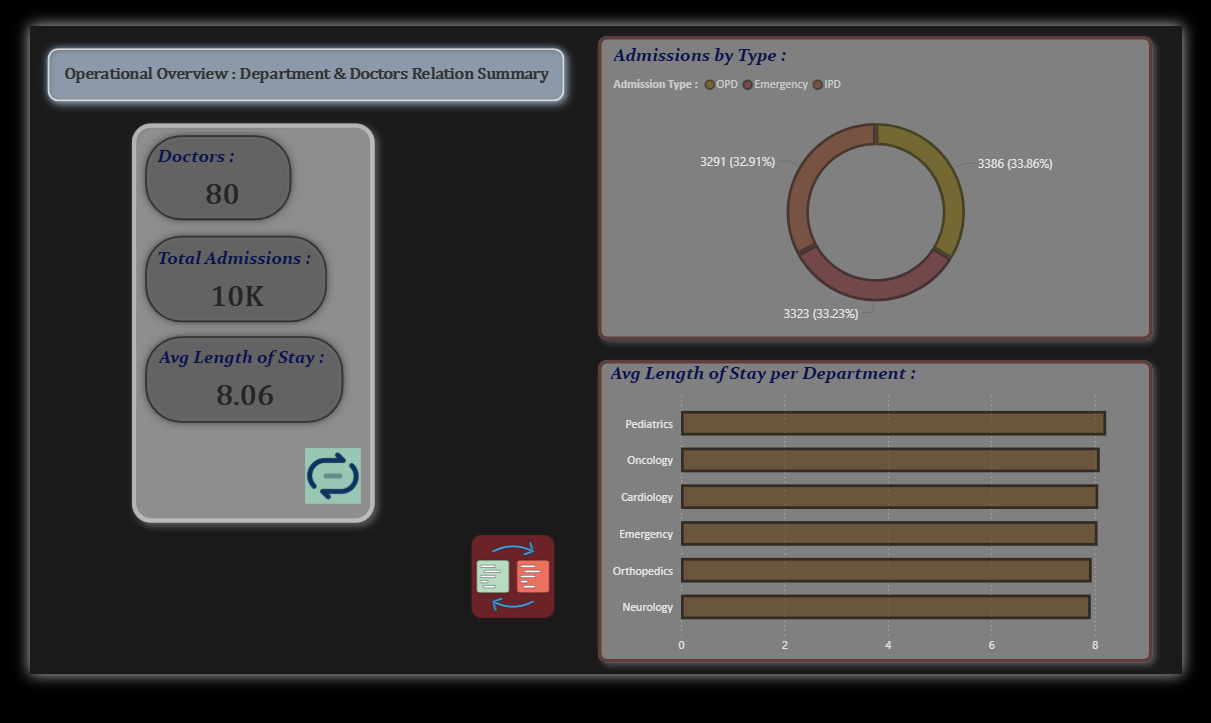

The page's visual inventory and layout, read from the dashboard file:
{"tool":"powerbi","page":{"name":"Operational Efficiency Analysis :- ","canvas":[1280,720],"ordinal":2},"visuals":[{"type":"shape","box":[620,10,638.3,408],"z":0,"group":"g1"},{"type":"group","id":"g1","title":"Visual - Adm by Doc","box":[620,10,638.3,408],"z":0,"group":"g3"},{"type":"shape","box":[99.6,95.2,296,470.1],"z":0,"group":"g8"},{"type":"shape","box":[119.9,113.2,178.4,110.4],"z":0,"group":"g7"},{"type":"actionButton","title":"Home Button ","box":[25,142.5,95,100],"z":0,"group":"g10"},{"type":"shape","box":[119.9,225.1,217.9,112.1],"z":0,"group":"g4"},{"type":"group","id":"g2","title":"KIP - Avg Stay Time ","box":[119.9,337.1,236.8,112.1],"z":0,"group":"g6"},{"type":"shape","box":[119.9,337.1,236.2,112.1],"z":0,"group":"g2"},{"type":"shape","box":[621.7,411.7,636.6,308.3],"z":0,"group":"g5"},{"type":"actionButton","title":"Next Button ","box":[170,600,95,100],"z":0,"group":"g9"},{"type":"group","id":"g3","title":"Visual 2 - Admission","box":[620,10,638.3,710],"z":1000},{"type":"actionButton","title":"Filter Button ","box":[25,20,95,100],"z":1000,"group":"g10"},{"type":"clusteredBarChart","title":"Admissions by Doctor :","fields":{"Category":["Doctors.Doctor_Name"],"Y":["MyMeasures.Admissions Count"]},"box":[638.6,26.7,597.8,380],"z":1000,"group":"g1"},{"type":"card","title":"Doctors :","fields":{"Values":["MyMeasures.Total Doctor"]},"box":[136.6,131.9,153.4,81.5],"z":1000,"group":"g7"},{"type":"group","id":"g4","title":"KIP - Total Admissions","box":[119.9,225.1,218.4,112.1],"z":1000,"group":"g6"},{"type":"card","title":"Total Admissions :","fields":{"Values":["MyMeasures.Total Admissions"]},"box":[136.6,245.5,185.1,81.5],"z":1000,"group":"g4"},{"type":"card","title":"Avg Length of Stay :","fields":{"Values":["MyMeasures.Avg Length of Stay"]},"box":[138.2,355.8,200.1,81.5],"z":1000,"group":"g2"},{"type":"group","id":"g5","title":"Visual - Adm by Dept","box":[621.7,411.7,636.6,308.3],"z":1000,"group":"g3"},{"type":"clusteredColumnChart","title":"Admissions by Department : ","fields":{"Category":["Departments.Department_Name"],"Y":["MyMeasures.Admissions Count"]},"box":[638.6,430,597.8,278.3],"z":1000,"group":"g5"},{"type":"actionButton","title":"Table View Button ","box":[301.4,464.7,70.1,69.9],"z":1000,"group":"g8"},{"type":"actionButton","title":"Previous Button ","box":[25,600,95,100],"z":1000,"group":"g9"},{"type":"group","id":"g6","title":"All KPIs ","box":[119.9,113.2,236.8,335.9],"z":2000,"group":"g8"},{"type":"group","id":"g7","title":"KPI - Total Doctors ","box":[119.9,113.2,178.4,112.1],"z":2000,"group":"g6"},{"type":"actionButton","title":"Change View Button 1","box":[486,562,100,100],"z":2000},{"type":"group","id":"g8","title":"KPIs with BG","box":[99.6,95.2,296,470.1],"z":4000},{"type":"group","id":"g9","title":"Navigation ","box":[25,600,240,100],"z":5000},{"type":"shape","title":"Title","box":[7.3,11,600,85],"z":5500},{"type":"group","id":"g10","title":"Home + Filter ","box":[25,20,95,222.5],"z":6000}]}

Visuals, with their boxes on the page's 1280x720 design canvas (x1, y1, x2, y2). These are canvas units, not pixel positions in the 1211x723 screenshot, which may show the page scaled, cropped or inside an application window:
shape: BBox(620, 10, 1258, 418)
"Visual - Adm by Doc" group: BBox(620, 10, 1258, 418)
shape: BBox(100, 95, 396, 565)
shape: BBox(120, 113, 298, 224)
"Home Button " actionButton: BBox(25, 142, 120, 242)
shape: BBox(120, 225, 338, 337)
"KIP - Avg Stay Time " group: BBox(120, 337, 357, 449)
shape: BBox(120, 337, 356, 449)
shape: BBox(622, 412, 1258, 720)
"Next Button " actionButton: BBox(170, 600, 265, 700)
"Visual 2 - Admission" group: BBox(620, 10, 1258, 720)
"Filter Button " actionButton: BBox(25, 20, 120, 120)
"Admissions by Doctor :" clusteredBarChart: BBox(639, 27, 1236, 407)
"Doctors :" card: BBox(137, 132, 290, 213)
"KIP - Total Admissions" group: BBox(120, 225, 338, 337)
"Total Admissions :" card: BBox(137, 246, 322, 327)
"Avg Length of Stay :" card: BBox(138, 356, 338, 437)
"Visual - Adm by Dept" group: BBox(622, 412, 1258, 720)
"Admissions by Department : " clusteredColumnChart: BBox(639, 430, 1236, 708)
"Table View Button " actionButton: BBox(301, 465, 372, 535)
"Previous Button " actionButton: BBox(25, 600, 120, 700)
"All KPIs " group: BBox(120, 113, 357, 449)
"KPI - Total Doctors " group: BBox(120, 113, 298, 225)
"Change View Button 1" actionButton: BBox(486, 562, 586, 662)
"KPIs with BG" group: BBox(100, 95, 396, 565)
"Navigation " group: BBox(25, 600, 265, 700)
"Title" shape: BBox(7, 11, 607, 96)
"Home + Filter " group: BBox(25, 20, 120, 242)
